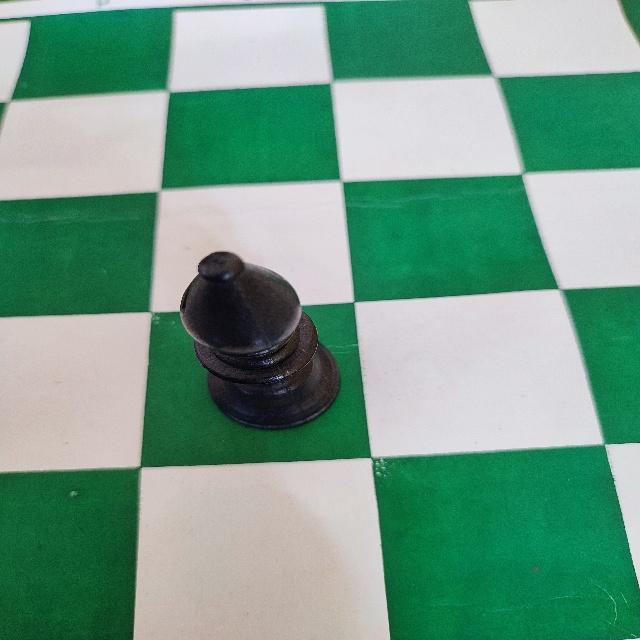Bishop: (175, 246, 348, 434)
